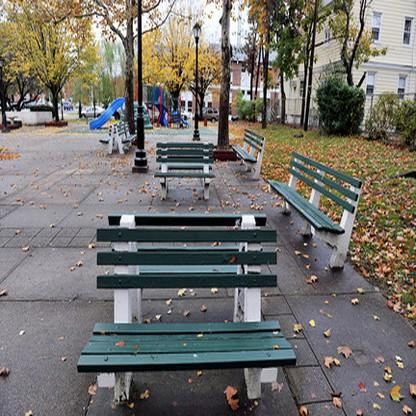obstacle: (78, 228, 289, 396), (294, 148, 367, 287), (148, 142, 214, 201), (228, 125, 272, 181)
